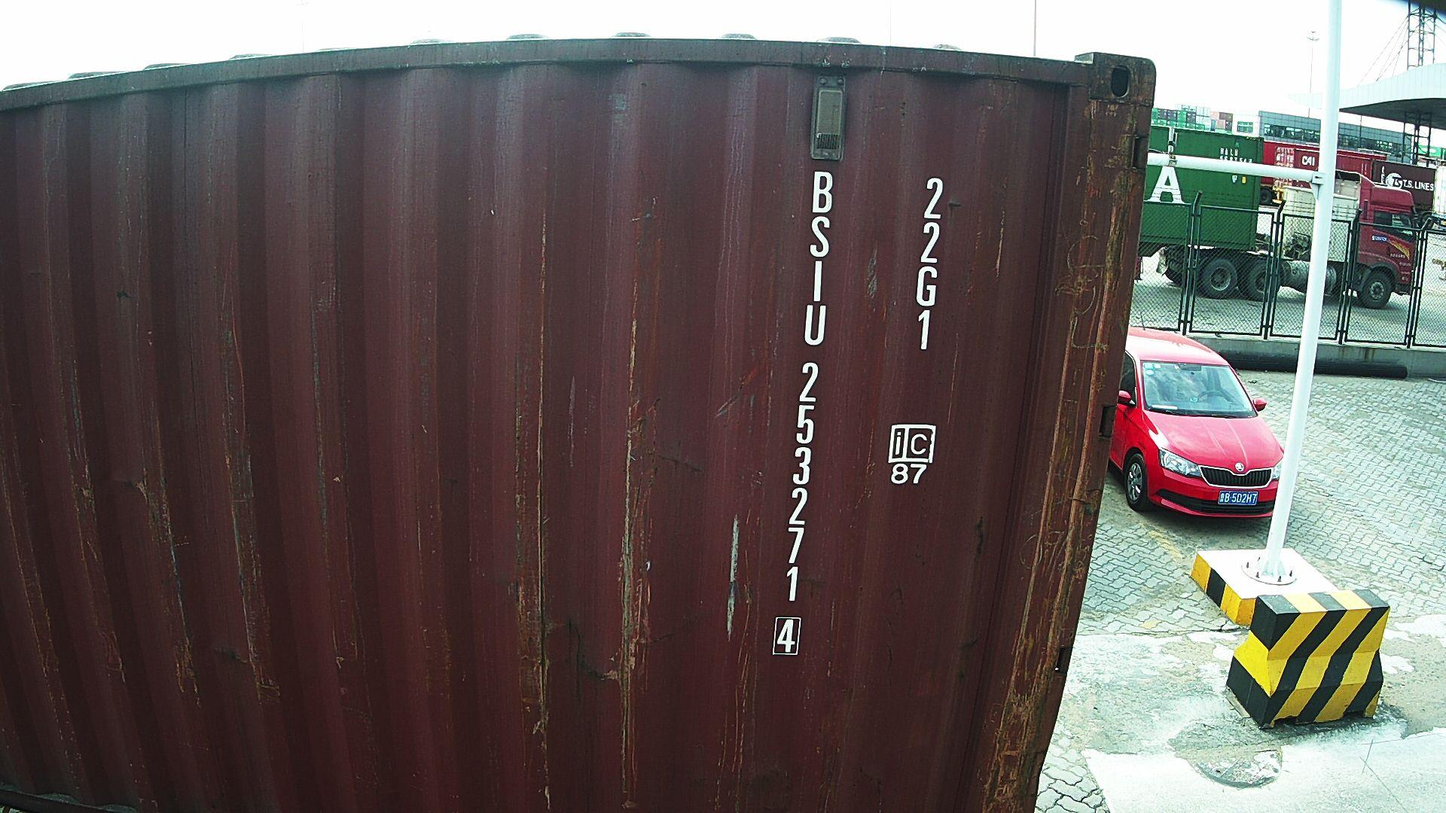container-numbers: (772, 167, 836, 662), (908, 173, 949, 357)
